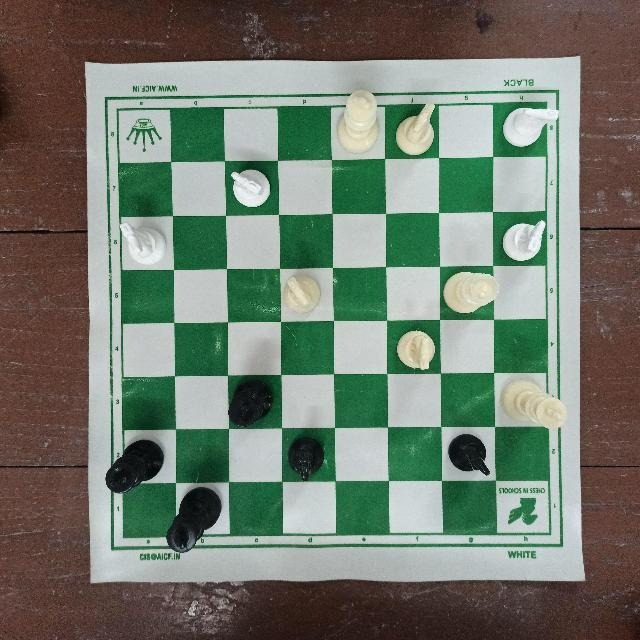black-king: (101, 433, 175, 503), (157, 483, 227, 550), (225, 380, 273, 430)
black-knight: (277, 430, 341, 486), (446, 437, 499, 483)
white-king: (498, 379, 577, 431), (337, 82, 385, 158)
white-knight: (500, 97, 563, 149), (387, 97, 439, 155), (276, 267, 331, 318), (226, 159, 276, 215), (114, 216, 170, 265), (390, 326, 445, 375), (502, 213, 549, 267)
white-queen: (439, 267, 502, 318)
